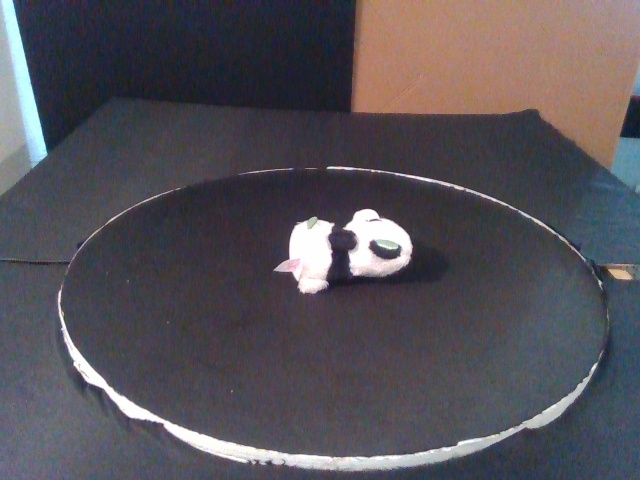teddy_bear: (289, 207, 414, 296)
